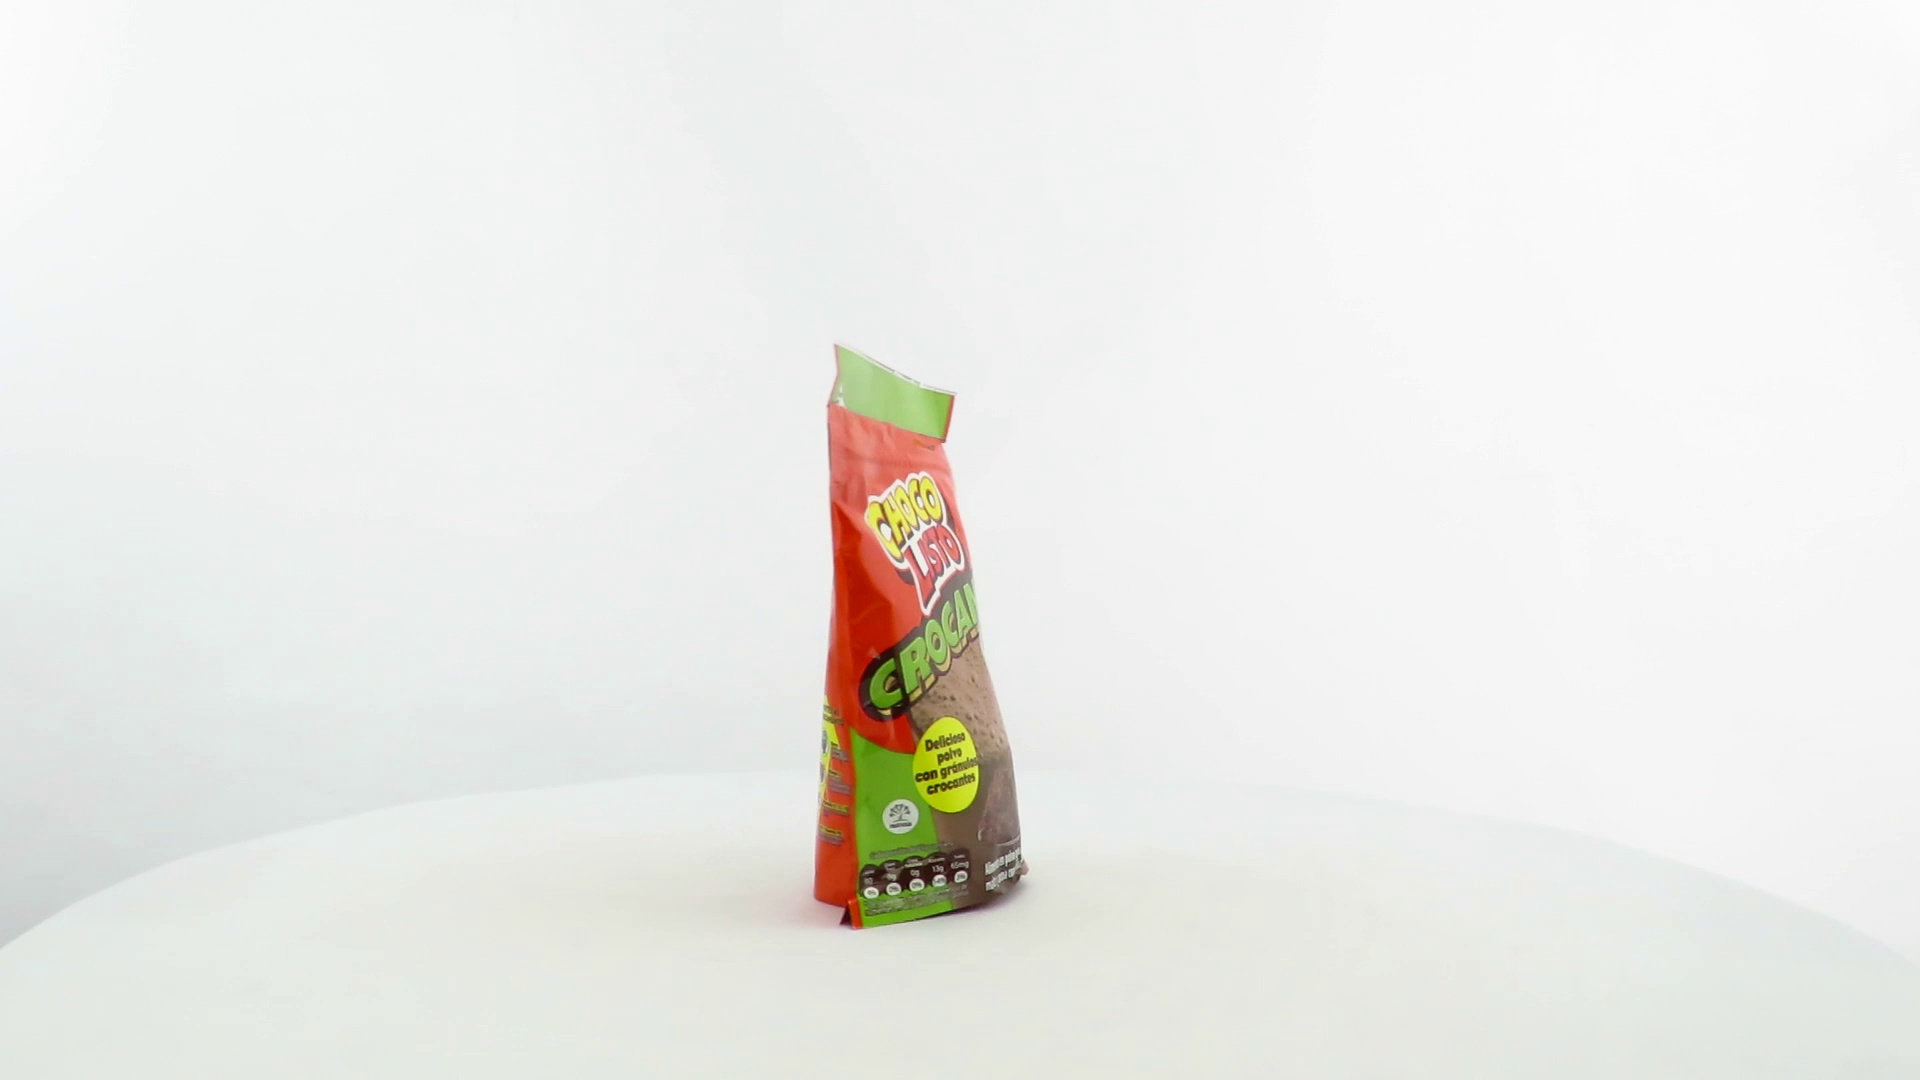COL0170102DYP10000: (808, 334, 1035, 938)
